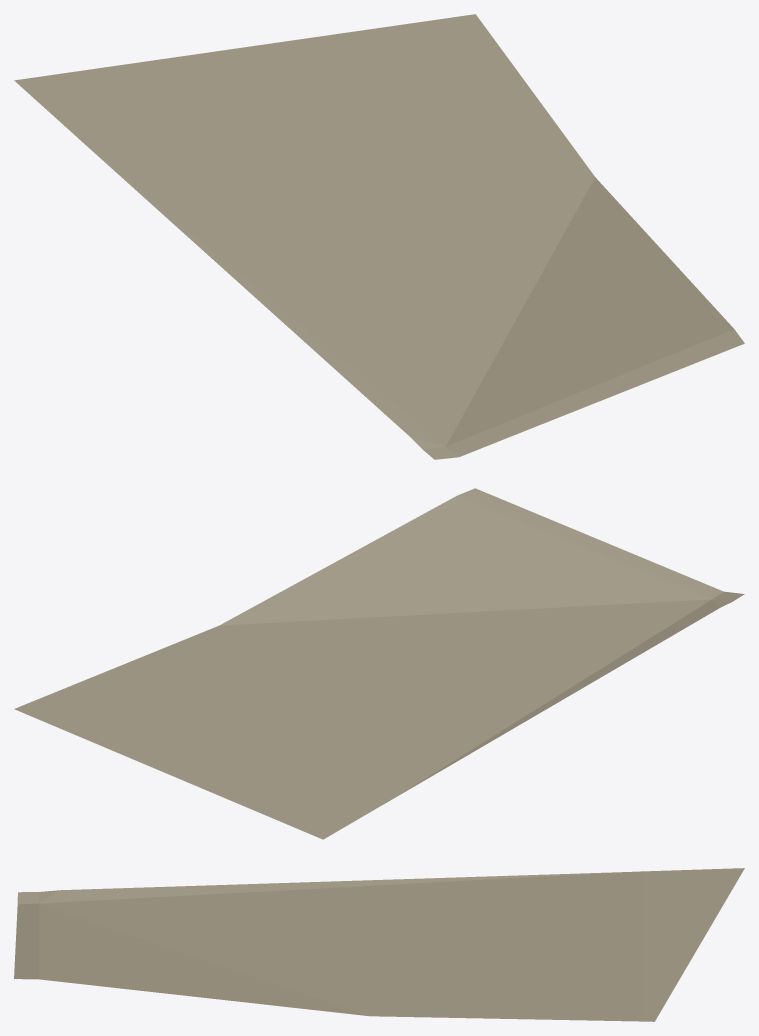
Rendered from farm_-19_-23_soil.glb.
3 views of the same model, one above another, from view 1: azimuth 30°, elevation 25°; view 2: azimuth 150°, elevation 25°; view 3: azimuth 270°, elevation 25° (orthographic). The views are drawn at different scales.
Visible parts, largest first — view 1: geometry_0; view 2: geometry_0; view 3: geometry_0.
Part boxes in pixels (x1,y1,x2,y2): geometry_0: (14,14,744,459); geometry_0: (14,488,744,839); geometry_0: (14,868,744,1021).
Size of the model in its own units: 53.83 by 6.5 by 96.93.
